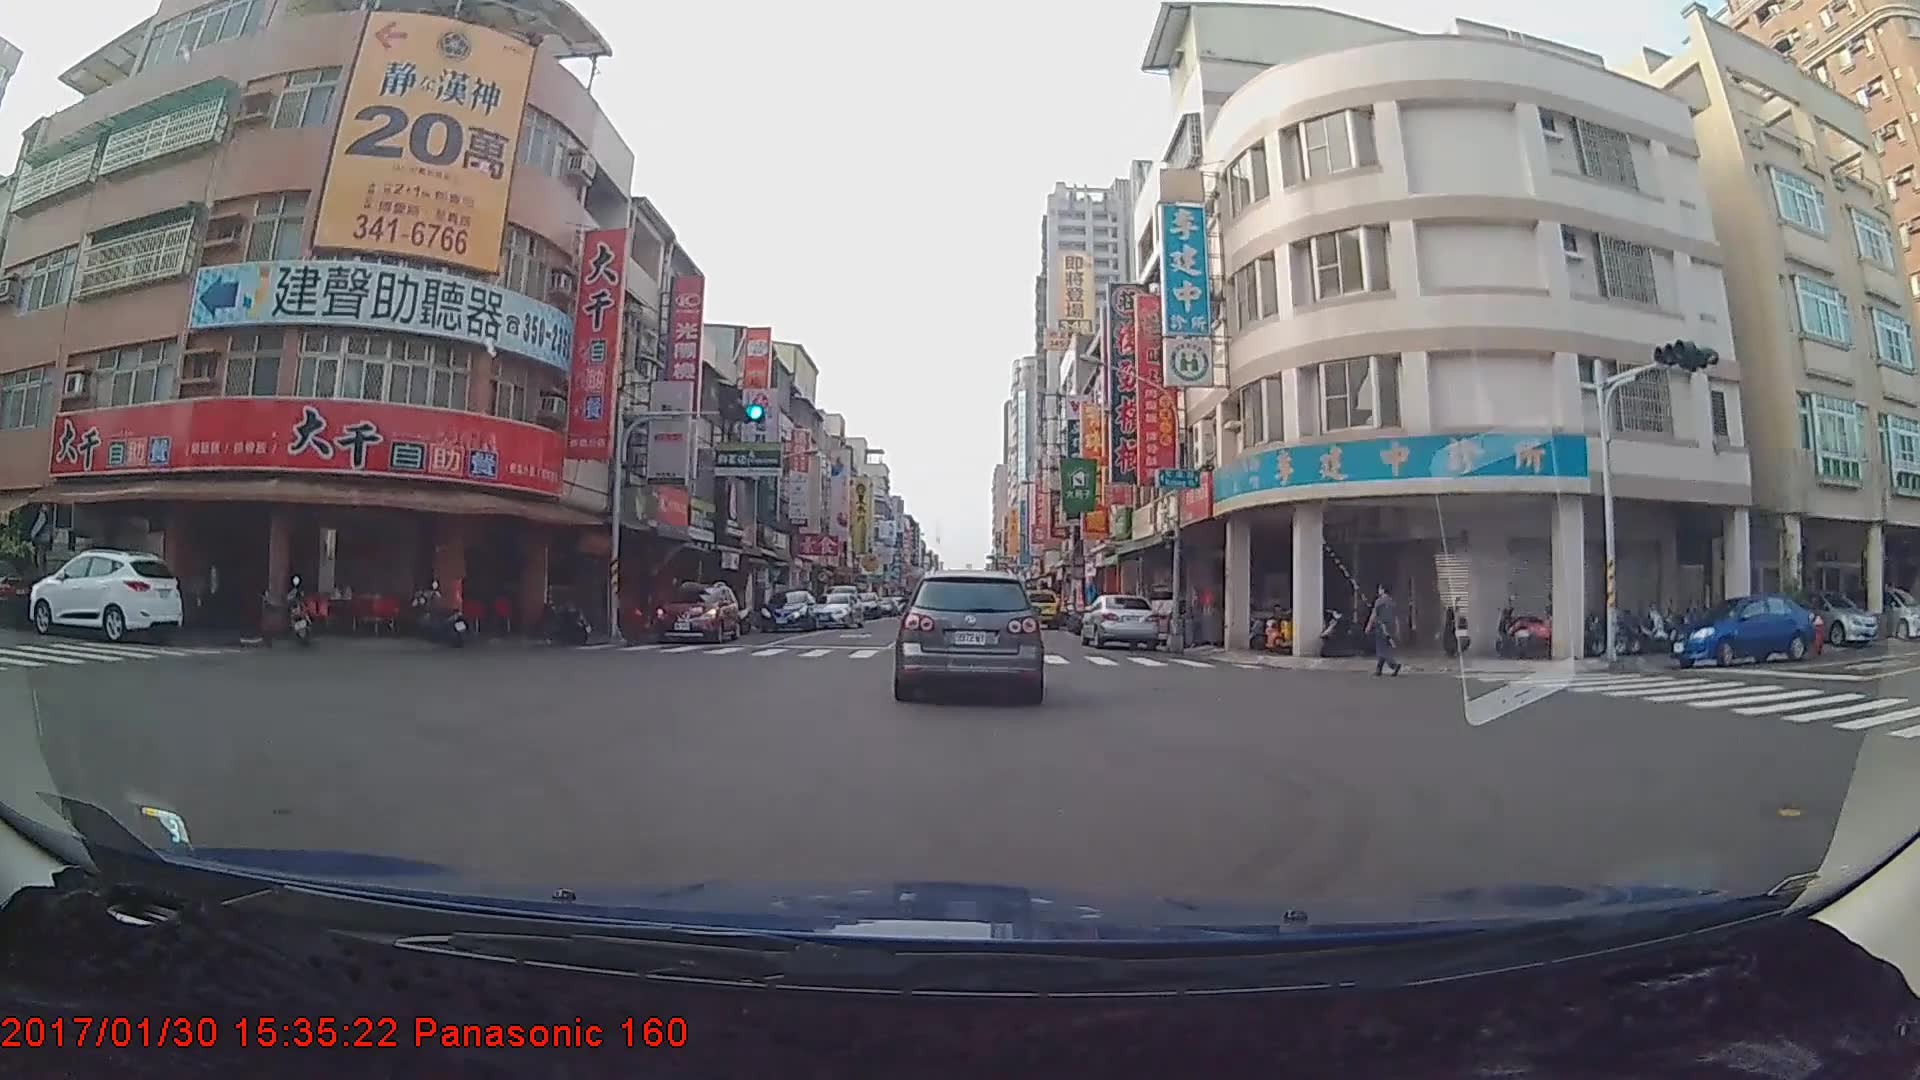pedestrian: (1365, 587, 1403, 681)
vehicle: (894, 570, 1043, 703), (26, 549, 181, 645), (1665, 594, 1817, 671), (1767, 583, 1880, 648), (652, 582, 741, 642), (1832, 583, 1920, 641), (1078, 592, 1159, 651), (756, 587, 818, 632), (806, 591, 864, 629), (1015, 589, 1061, 629)
